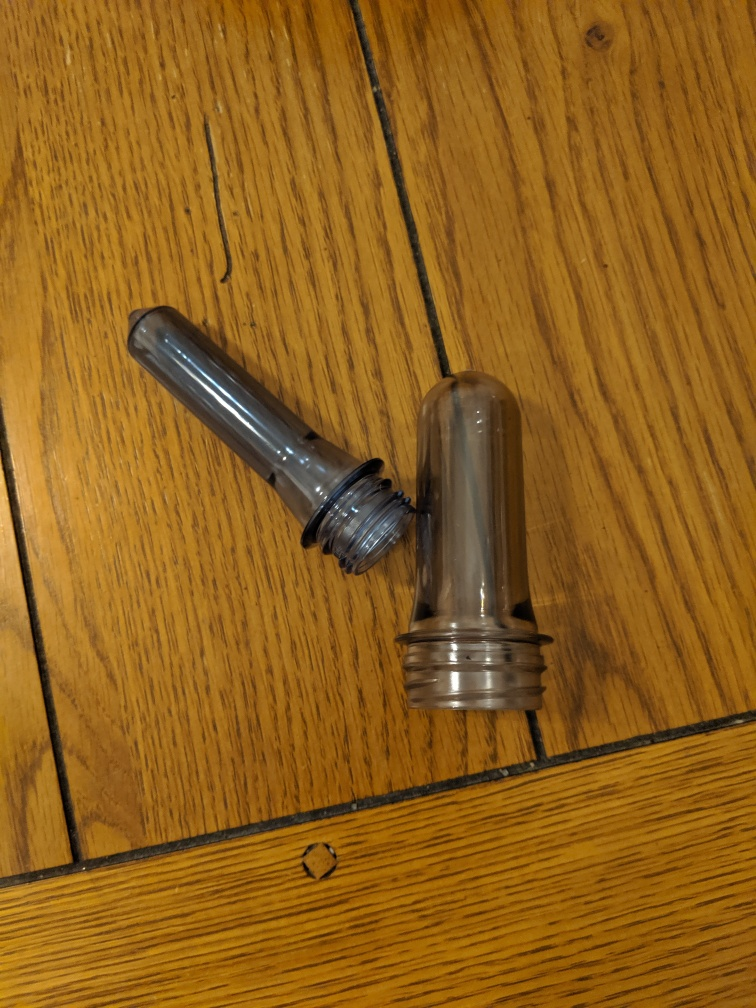preform: (118, 299, 421, 581), (391, 362, 556, 730)
